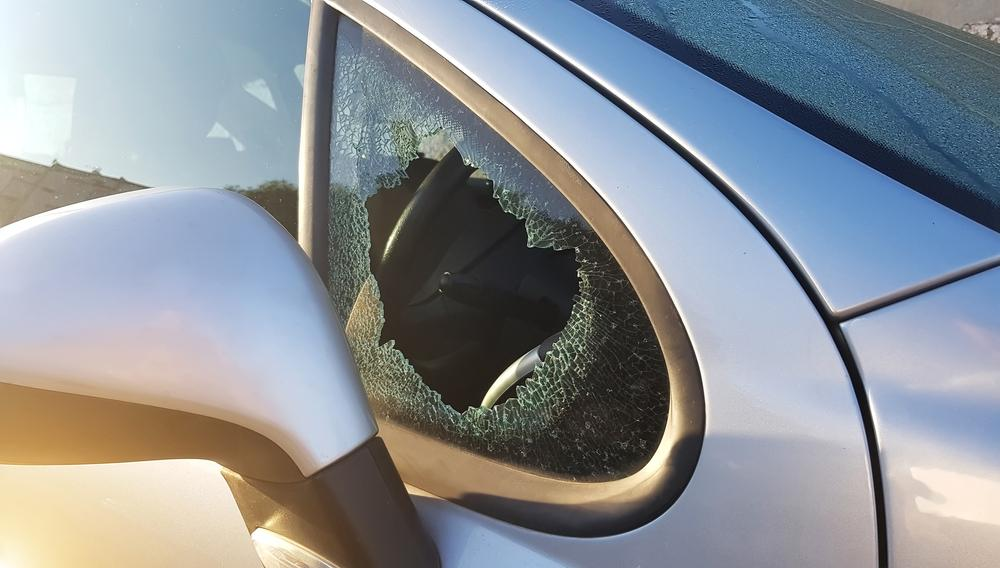glass shatter: (325, 12, 670, 484)
